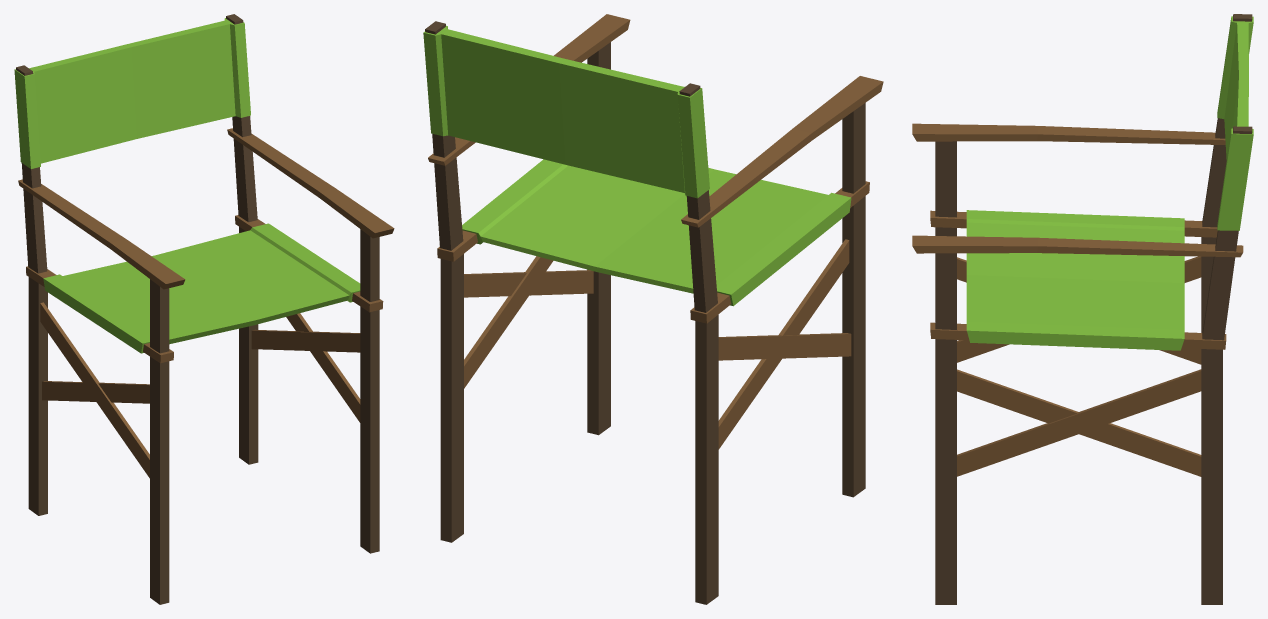
File: chair_2.fbx
3 views of the same model, side by side, from view 1: azimuth 30°, elevation 25°; view 2: azimuth 150°, elevation 25°; view 3: azimuth 270°, elevation 25° (orthographic). The views are drawn at different scales.
Visible parts, largest first — view 1: chair_2; view 2: chair_2; view 3: chair_2.
Boxes of the visible parts, x1=… form: chair_2: x1=14, y1=14, x2=394, y2=604; chair_2: x1=423, y1=14, x2=883, y2=604; chair_2: x1=912, y1=14, x2=1253, y2=604.
Bounding box in the file's own units: 50.81 × 91.75 × 59.96.
